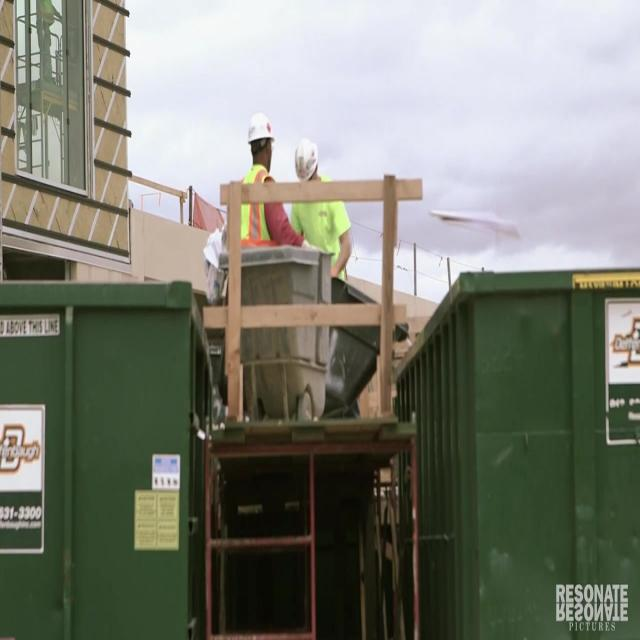Reflective-Jacket: (288, 174, 358, 286), (220, 160, 282, 254)
Safety-Helmet: (241, 102, 279, 156), (291, 127, 325, 186)
